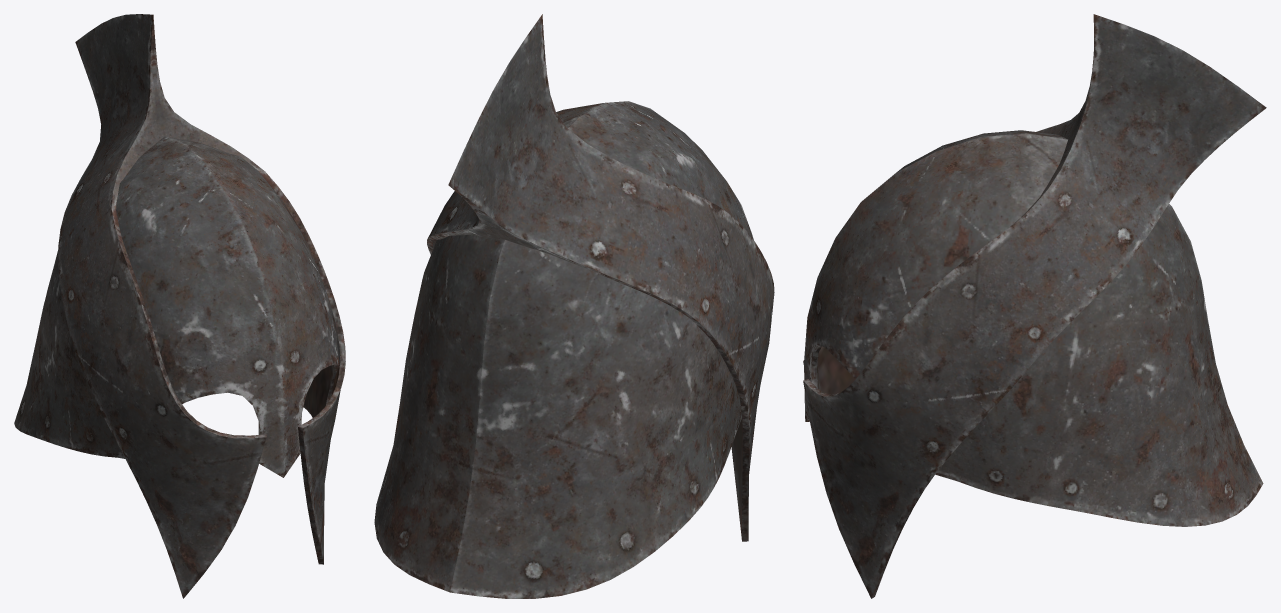
The model's file is sk_gb_uruk_helmet_heavy_c.fbx.
3 renders of one model, left to right at view 1: azimuth 30°, elevation 25°; view 2: azimuth 150°, elevation 25°; view 3: azimuth 270°, elevation 25°, orthographic. The views are drawn at different scales.
Visible parts, largest first — view 1: sk_gb_uruk_helmet_heavy_c; view 2: sk_gb_uruk_helmet_heavy_c; view 3: sk_gb_uruk_helmet_heavy_c.
Boxes of the visible parts, x1,y1,x2,y2 form: sk_gb_uruk_helmet_heavy_c: (14, 14, 345, 598); sk_gb_uruk_helmet_heavy_c: (374, 14, 774, 598); sk_gb_uruk_helmet_heavy_c: (803, 14, 1266, 598).
Bounding box in the file's own units: 0.2034 × 0.3079 × 0.4007.
1 material, 1 textured.
